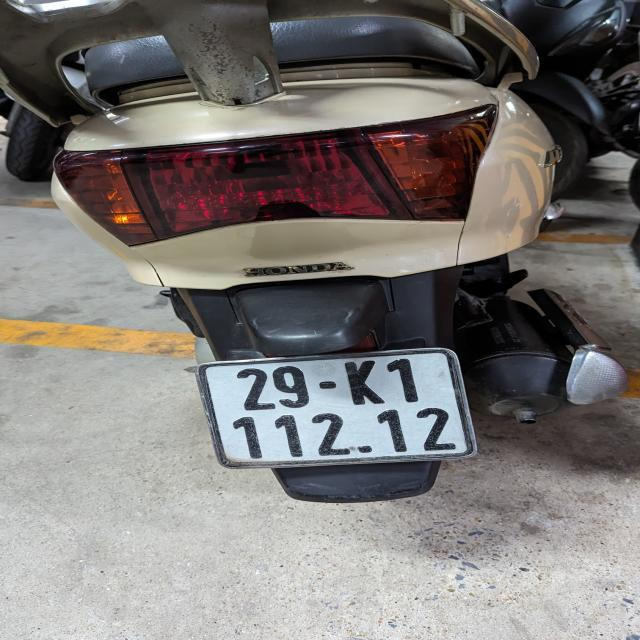license: (195, 346, 477, 469)
